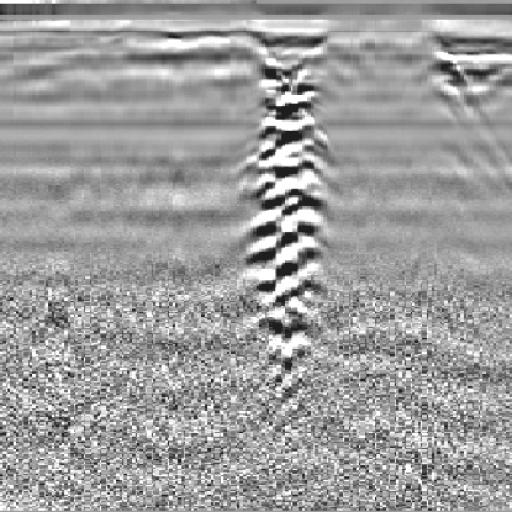metalic: (199, 42, 382, 419)
